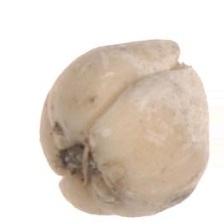L1: (53, 137, 105, 189), (167, 39, 196, 73)
L2: (39, 38, 209, 217)
